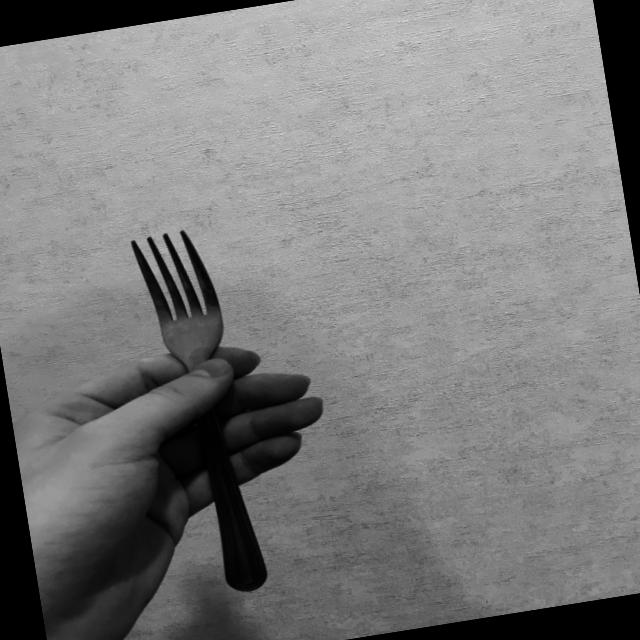fork: (126, 223, 272, 607)
